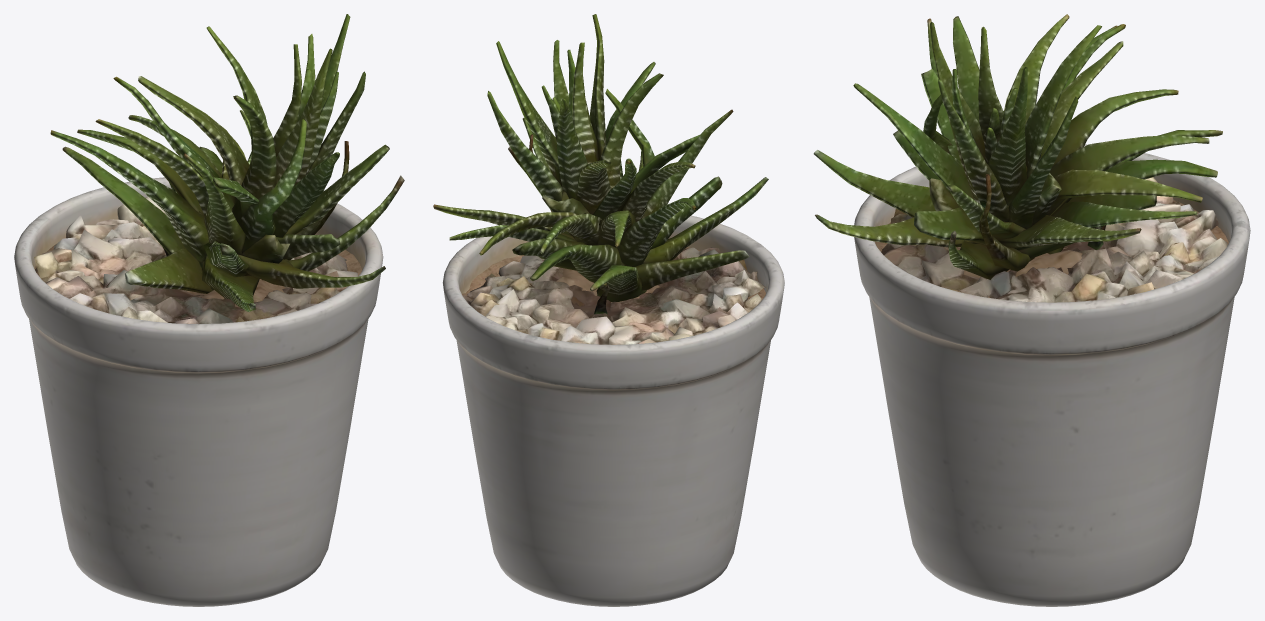
Rendered from potted_plant_04.glb.
3 views of the same model, side by side, from view 1: azimuth 30°, elevation 25°; view 2: azimuth 150°, elevation 25°; view 3: azimuth 270°, elevation 25° (orthographic). The views are drawn at different scales.
Parts seen in each view (by area): view 1: potted_plant_04_ground; view 2: potted_plant_04_ground; view 3: potted_plant_04_ground.
Boxes of the visible parts, box(x1,y1,x2,y2) form: potted_plant_04_ground: box(14, 14, 404, 606); potted_plant_04_ground: box(433, 14, 784, 606); potted_plant_04_ground: box(813, 14, 1250, 606).
Bounding box in the file's own units: 0.1679 × 0.2675 × 0.1848.
1 material, 1 textured.
